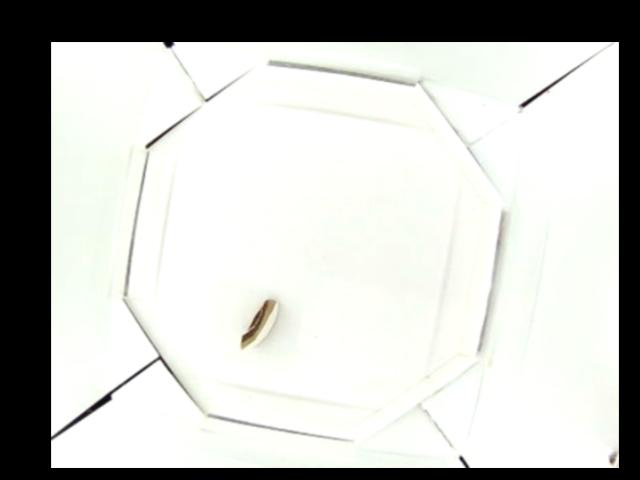China: (240, 297, 281, 349)
